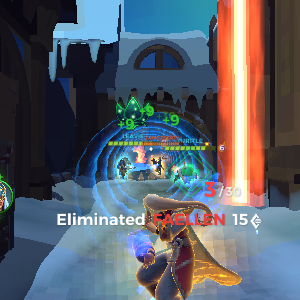model: (147, 152, 165, 179)
